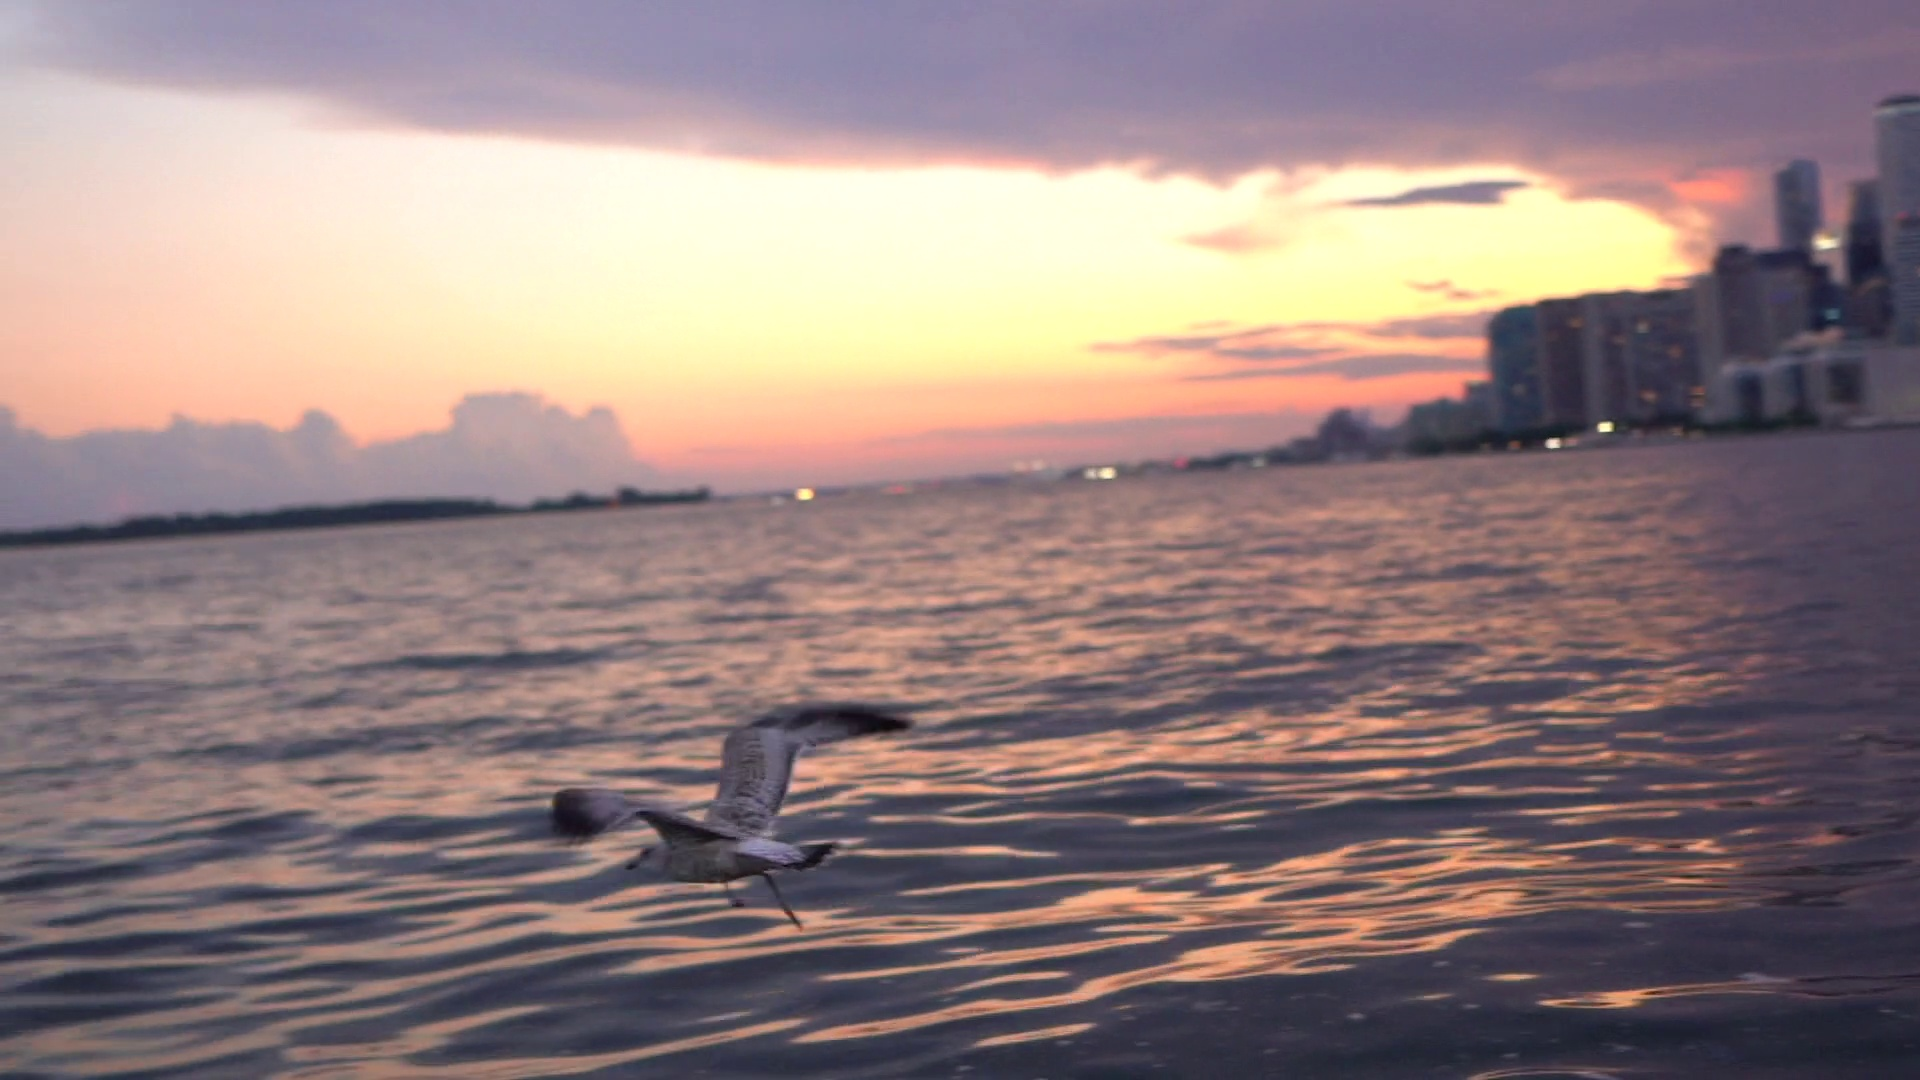bird: (549, 711, 913, 926)
